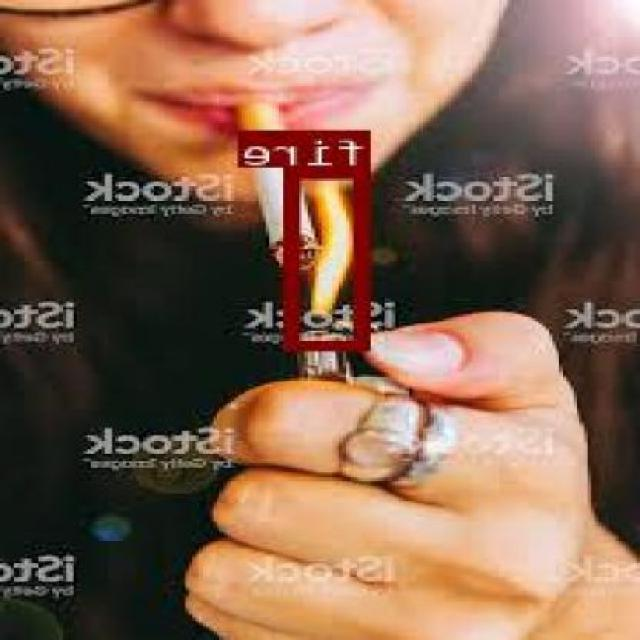fire: (288, 166, 374, 348)
